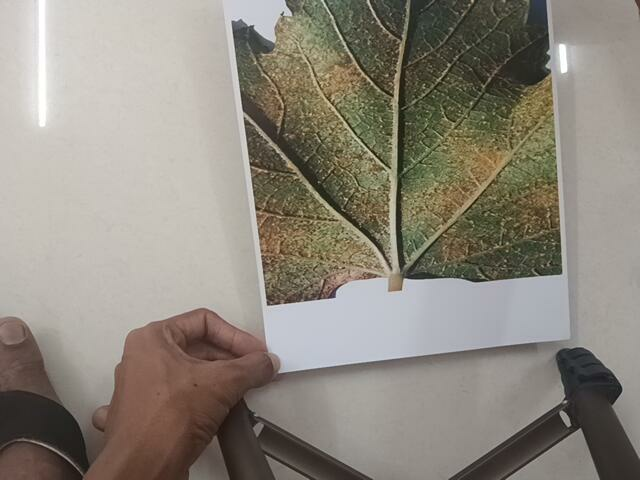Grape_Rust_Fungus: (232, 15, 593, 310)
